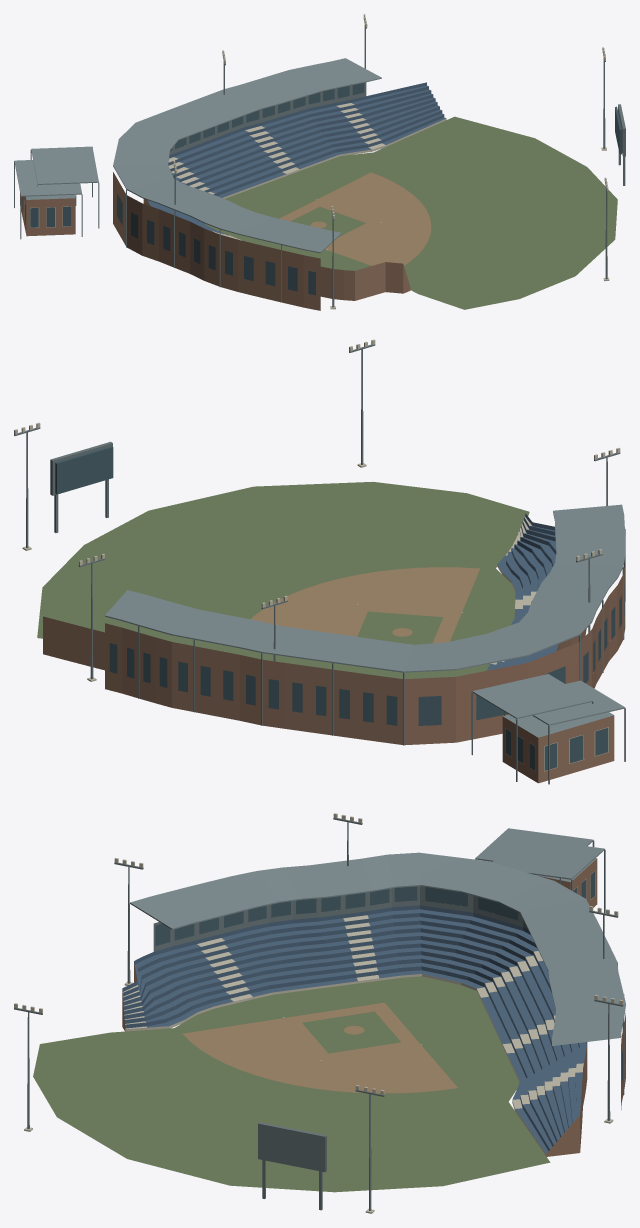
File: coolray-field-far.glb
3 renders of one model, top to bottom at view 1: azimuth 30°, elevation 25°; view 2: azimuth 150°, elevation 25°; view 3: azimuth 270°, elevation 25°, orthographic. The views are drawn at different scales.
Parts seen in each view (by area): view 1: coolray-field-0-turf, coolray-field-0-roof, coolray-field-0-seat, coolray-field-0-brick, coolray-field-0-dirt, coolray-field-0-glass, coolray-field-0-metal, coolray-field-0-stone; view 2: coolray-field-0-turf, coolray-field-0-brick, coolray-field-0-roof, coolray-field-0-dirt, coolray-field-0-glass, coolray-field-0-metal, coolray-field-0-seat, coolray-field-0-stone; view 3: coolray-field-0-turf, coolray-field-0-seat, coolray-field-0-roof, coolray-field-0-dirt, coolray-field-0-metal, coolray-field-0-stone, coolray-field-0-glass, coolray-field-0-brick.
Boxes of the visible parts, left/top/right/bottom form: coolray-field-0-turf: left=205, top=116, right=617, bottom=309; coolray-field-0-roof: left=14, top=58, right=381, bottom=253; coolray-field-0-seat: left=148, top=82, right=445, bottom=240; coolray-field-0-brick: left=20, top=172, right=410, bottom=310; coolray-field-0-dirt: left=279, top=172, right=431, bottom=265; coolray-field-0-glass: left=21, top=83, right=621, bottom=295; coolray-field-0-metal: left=14, top=19, right=625, bottom=307; coolray-field-0-stone: left=23, top=14, right=609, bottom=309; coolray-field-0-turf: left=37, top=481, right=529, bottom=679; coolray-field-0-brick: left=43, top=563, right=625, bottom=783; coolray-field-0-roof: left=105, top=504, right=625, bottom=737; coolray-field-0-dirt: left=251, top=567, right=479, bottom=643; coolray-field-0-glass: left=55, top=446, right=624, bottom=770; coolray-field-0-metal: left=14, top=344, right=625, bottom=784; coolray-field-0-seat: left=487, top=513, right=558, bottom=670; coolray-field-0-stone: left=14, top=339, right=620, bottom=771; coolray-field-0-turf: left=33, top=976, right=550, bottom=1192; coolray-field-0-seat: left=122, top=905, right=586, bottom=1153; coolray-field-0-roof: left=130, top=828, right=625, bottom=1045; coolray-field-0-dirt: left=182, top=1002, right=457, bottom=1093; coolray-field-0-metal: left=14, top=818, right=624, bottom=1210; coolray-field-0-stone: left=14, top=813, right=623, bottom=1213; coolray-field-0-glass: left=155, top=871, right=625, bottom=1081; coolray-field-0-brick: left=122, top=858, right=625, bottom=1156.
Bounding box in the file's own units: 201 × 34.9 × 156.
